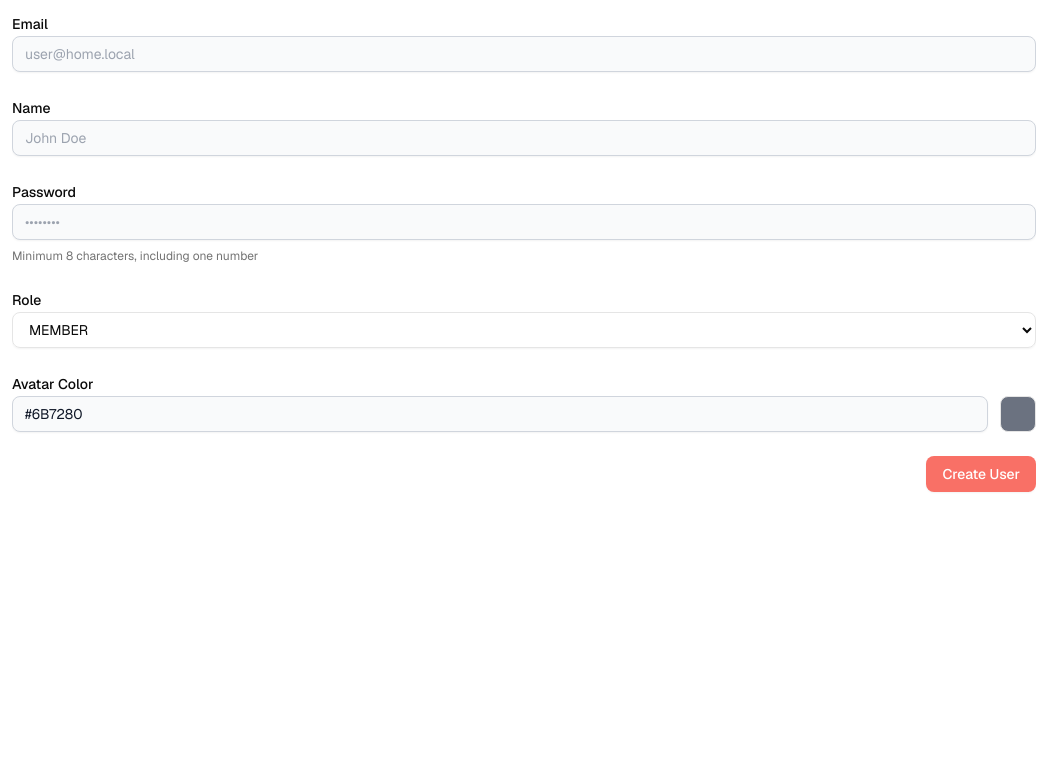
UserForm Component › Error Handling › should handle network errors gracefully
// Fill and submit
Type "test@example.com" into the field labelled "Email" at [524, 54], box [12,36,1036,72]
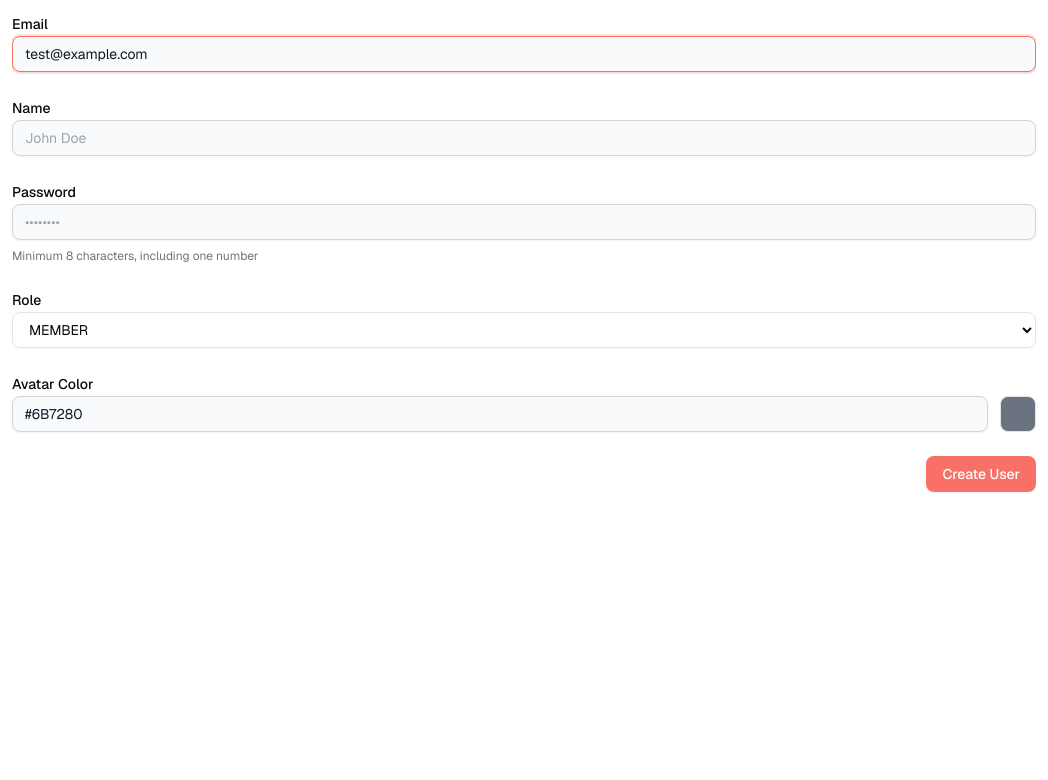
Type "Test User" into the field labelled "Name" at [524, 138], box [12,120,1036,156]
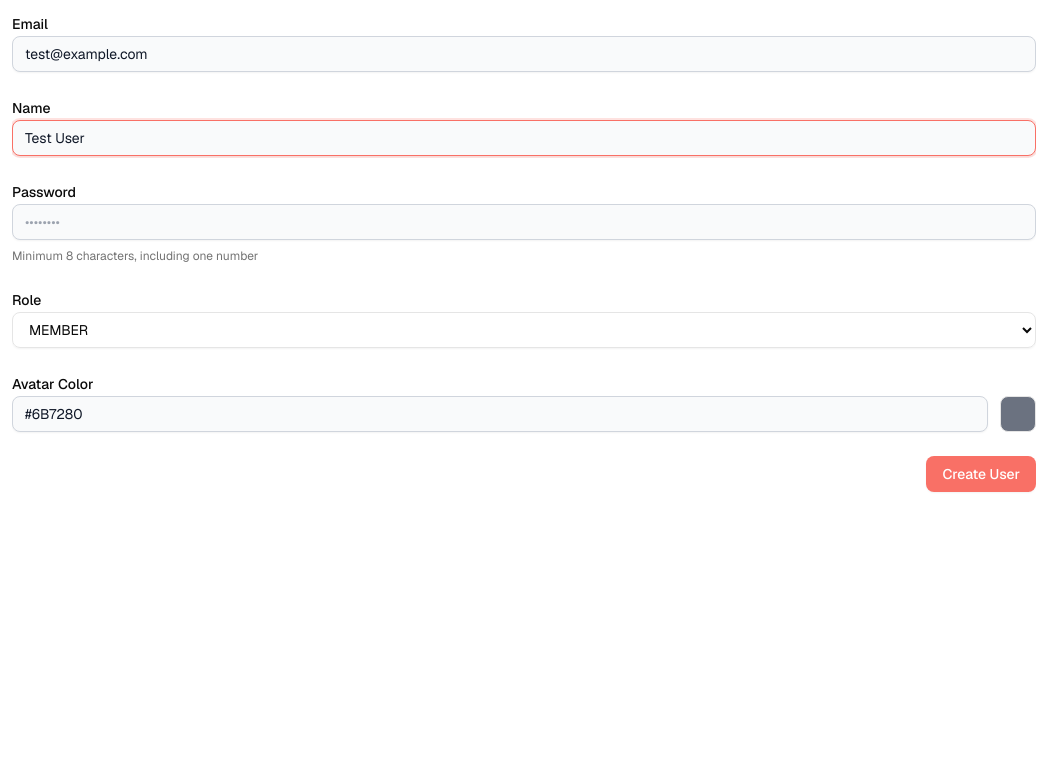
Type "TestPass123" into the password field labelled "Password" at [524, 222], box [12,204,1036,240]
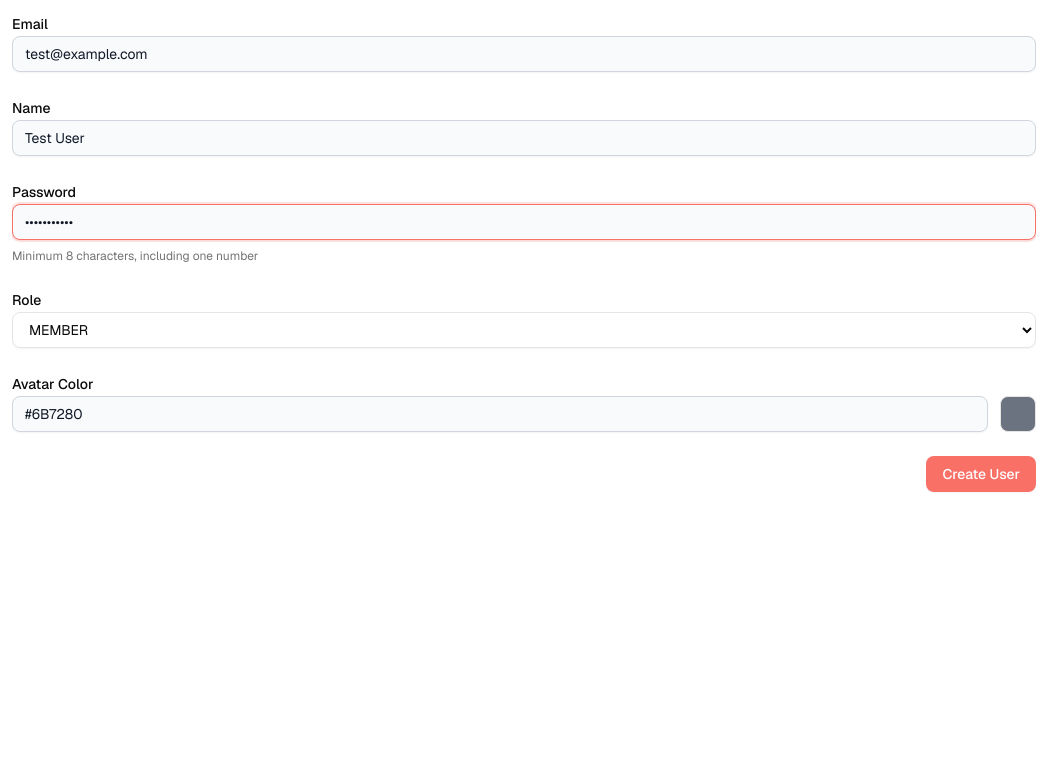
Click the button "Create User" at [981, 474], box [926,456,1036,492]
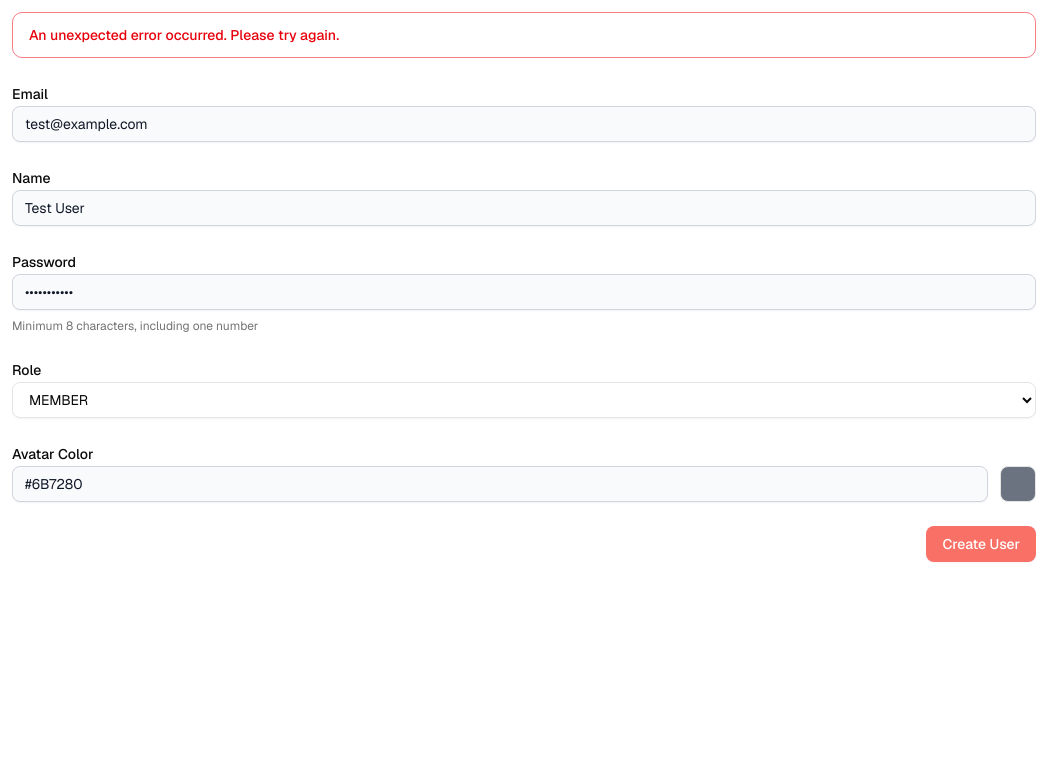
Result: the text "An unexpected error occurred. Please try again." is shown at [29,26,339,44]
